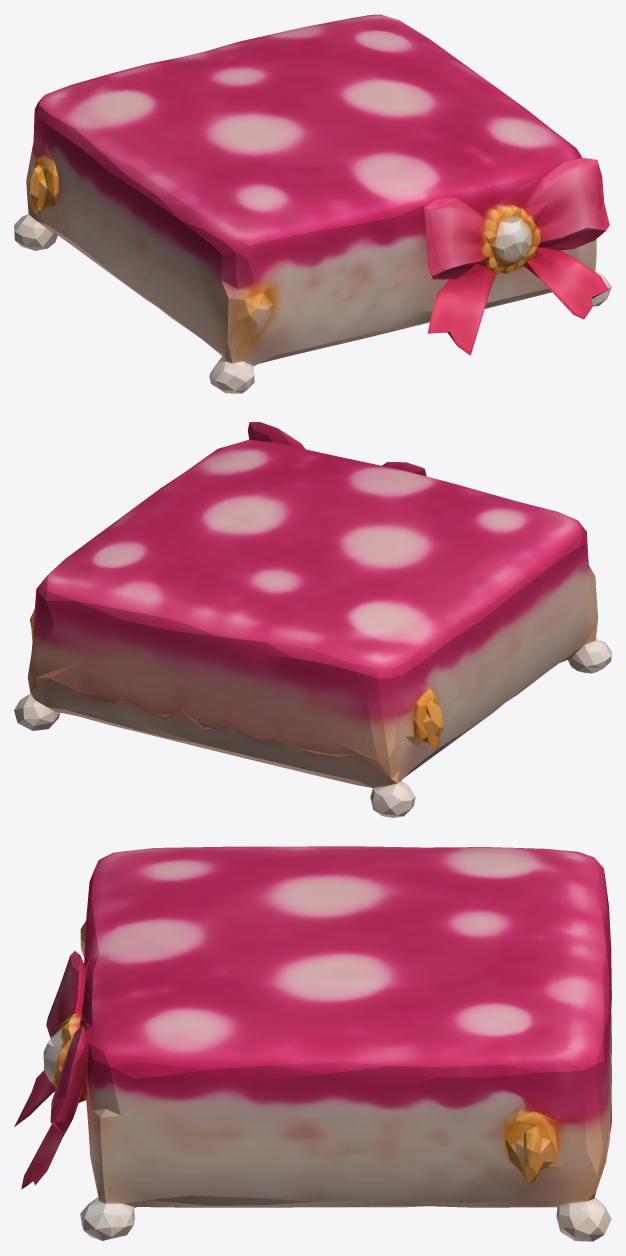
3 renders of one model, top to bottom at view 1: azimuth 30°, elevation 25°; view 2: azimuth 150°, elevation 25°; view 3: azimuth 270°, elevation 25°, orthographic. The views are drawn at different scales.
Parts seen in each view (by area): view 1: model; view 2: model; view 3: model.
Boxes of the visible parts, <box> form: model: <box>14,14,611,393</box>; model: <box>14,422,611,817</box>; model: <box>14,846,611,1241</box>.
Size of the model in its own units: 183 by 69.99 by 189.
Materials: 1 (1 with a texture image).
